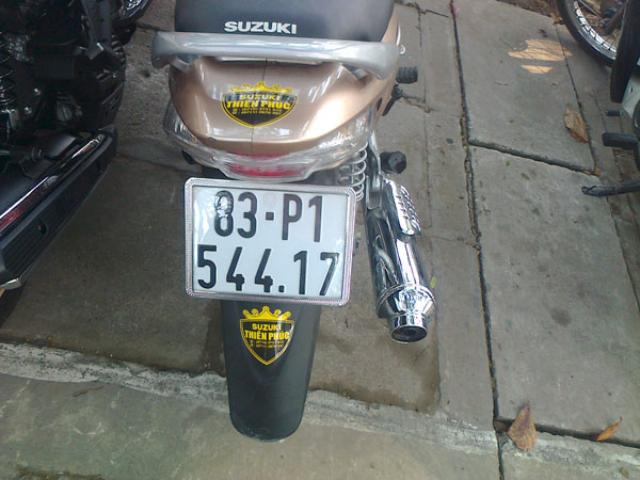plate: (191, 183, 353, 299)
